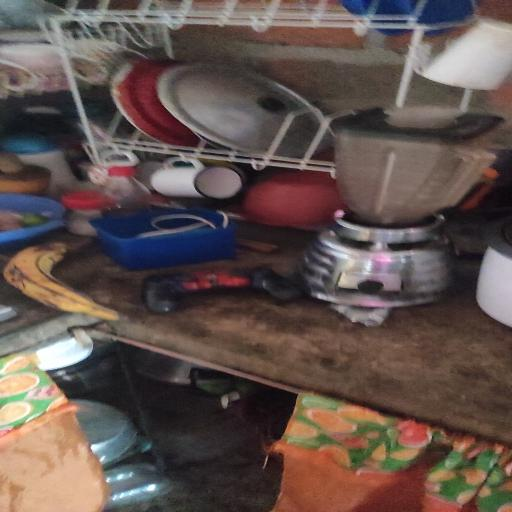ControlPlay4: (141, 267, 302, 313)
